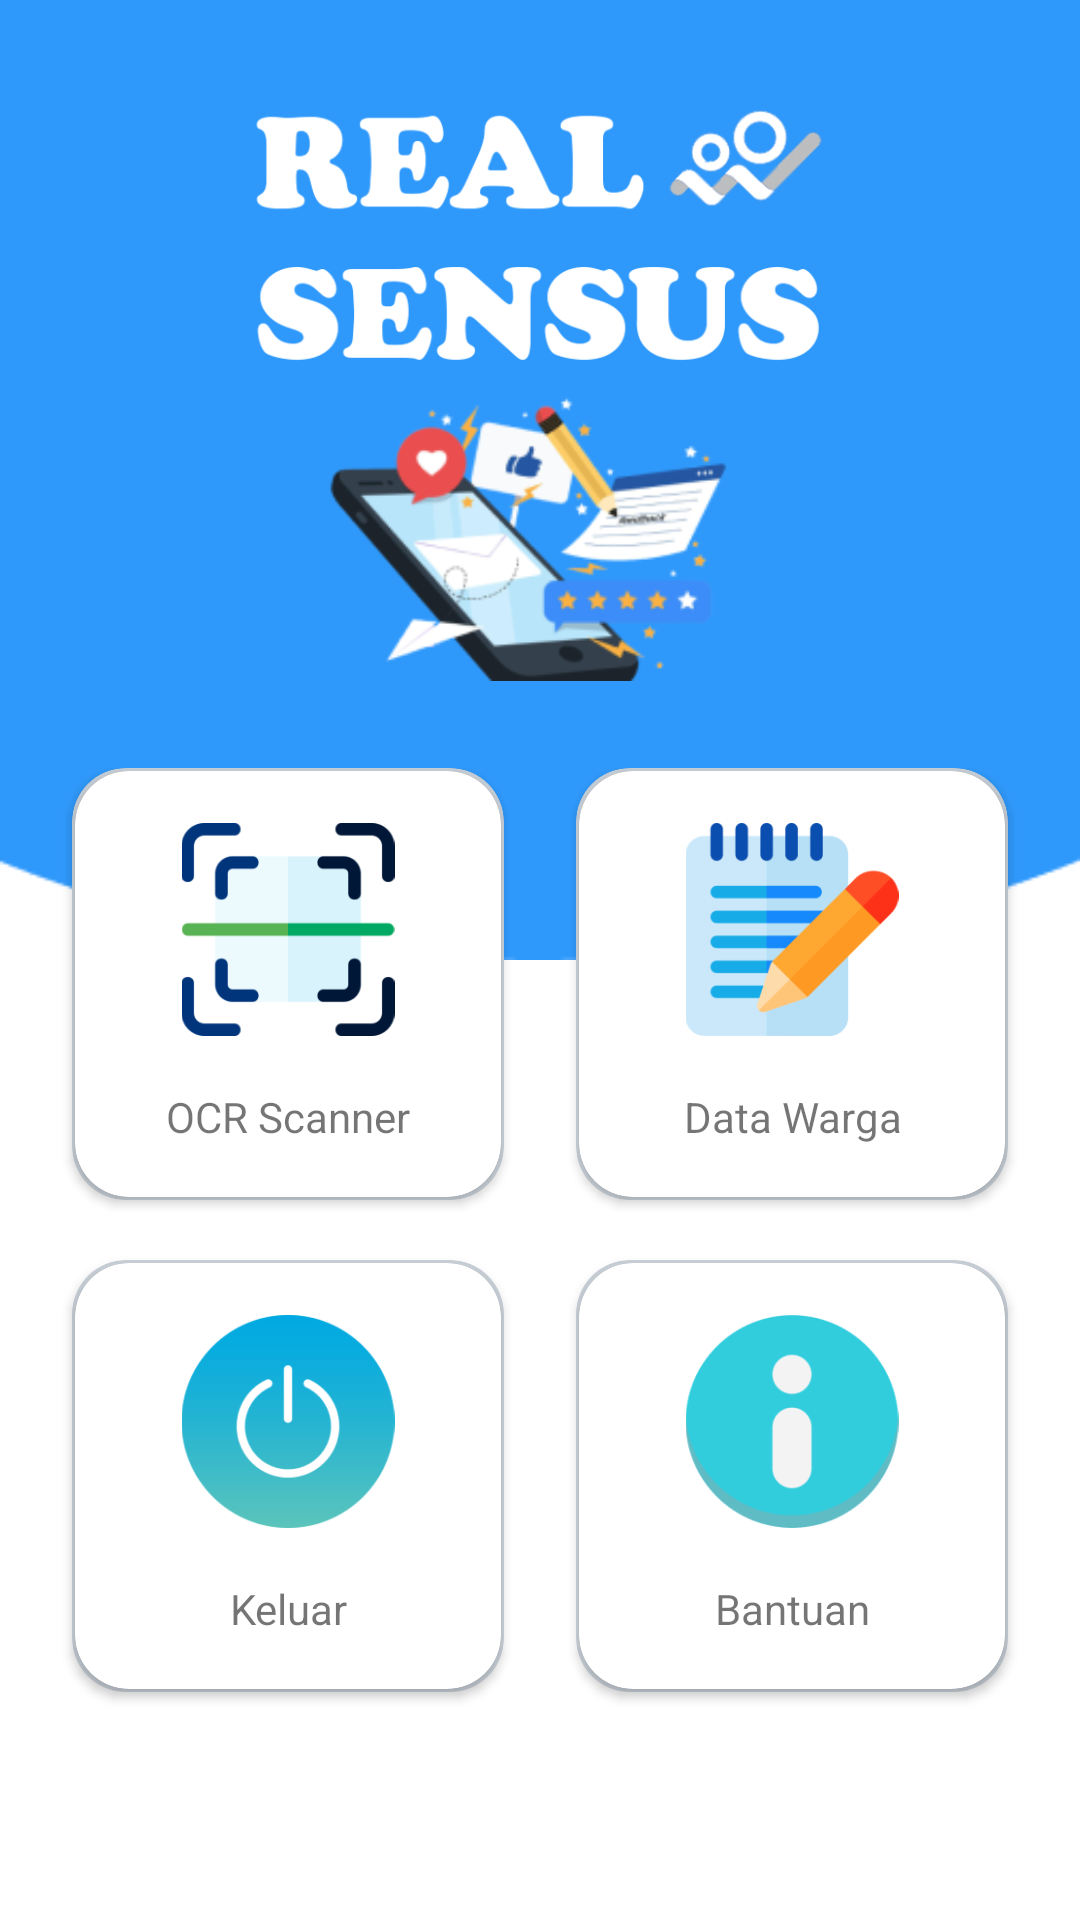

Icons on this 1080 x 1920 Android screen, each with the point to tap as (x=x, y=y):
info: (x=792, y=1421)
notepad: (x=792, y=929)
power: (x=288, y=1421)
